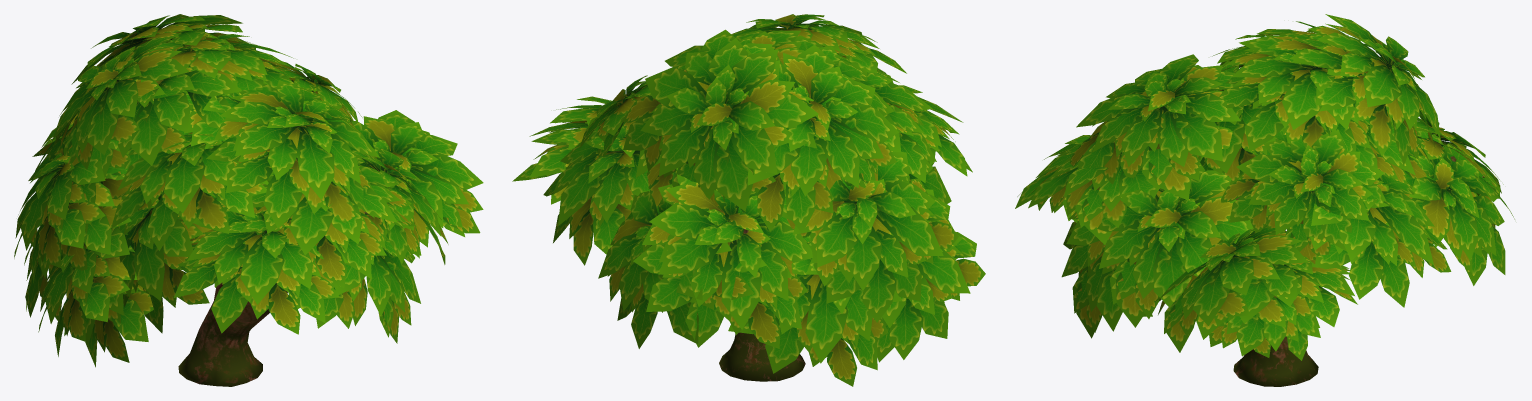
The model's file is oak_tree__game_ready.glb.
The picture shows the model from 3 angles, left to right: view 1: azimuth 30°, elevation 25°; view 2: azimuth 150°, elevation 25°; view 3: azimuth 270°, elevation 25°; orthographic projection. The views are drawn at different scales.
Visible parts, largest first — view 1: Canopy, Trunk; view 2: Canopy, Trunk; view 3: Canopy, Trunk.
Part boxes in pixels (x1,y1,x2,y2): Canopy: (14, 14, 483, 367); Trunk: (178, 212, 368, 386); Canopy: (512, 14, 985, 386); Trunk: (719, 229, 805, 381); Canopy: (1015, 14, 1514, 360); Trunk: (1233, 156, 1484, 386).
Bounding box in the file's own units: 39.14 × 30.24 × 41.
Materials: 2 (2 with a texture image).
